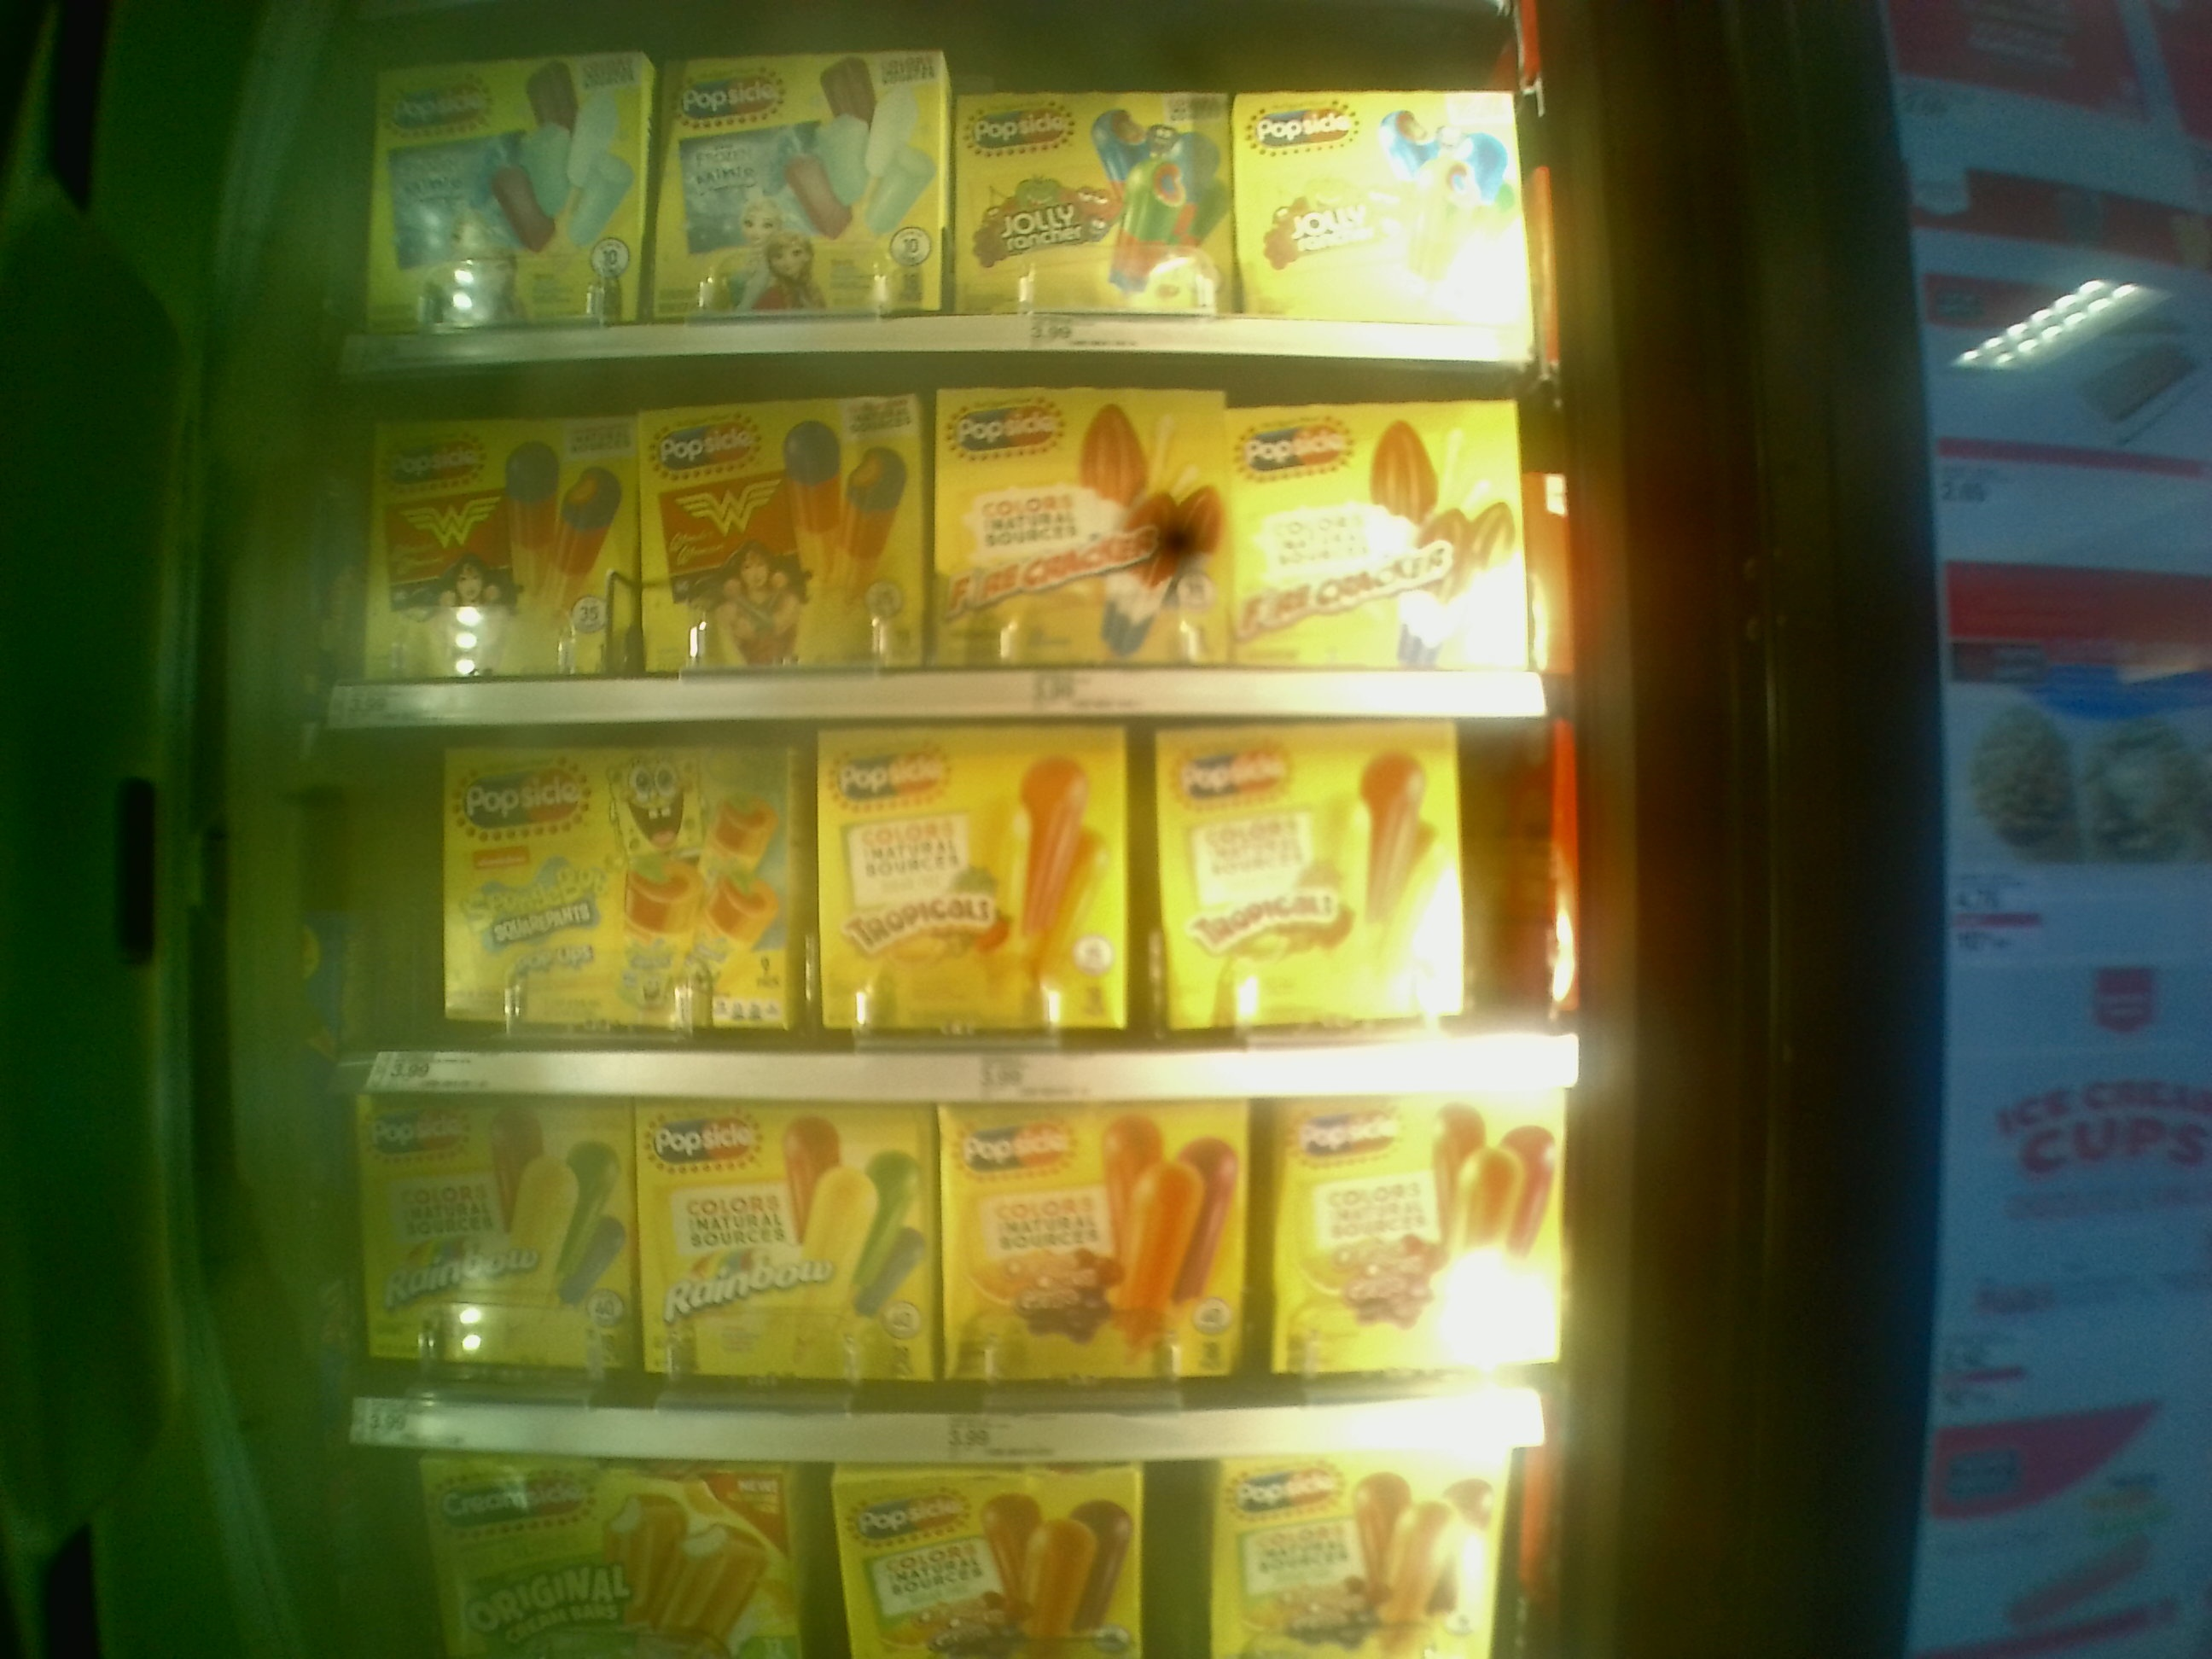shelf: (359, 723, 1559, 1087), (343, 1086, 1561, 1445), (329, 352, 1548, 708)
